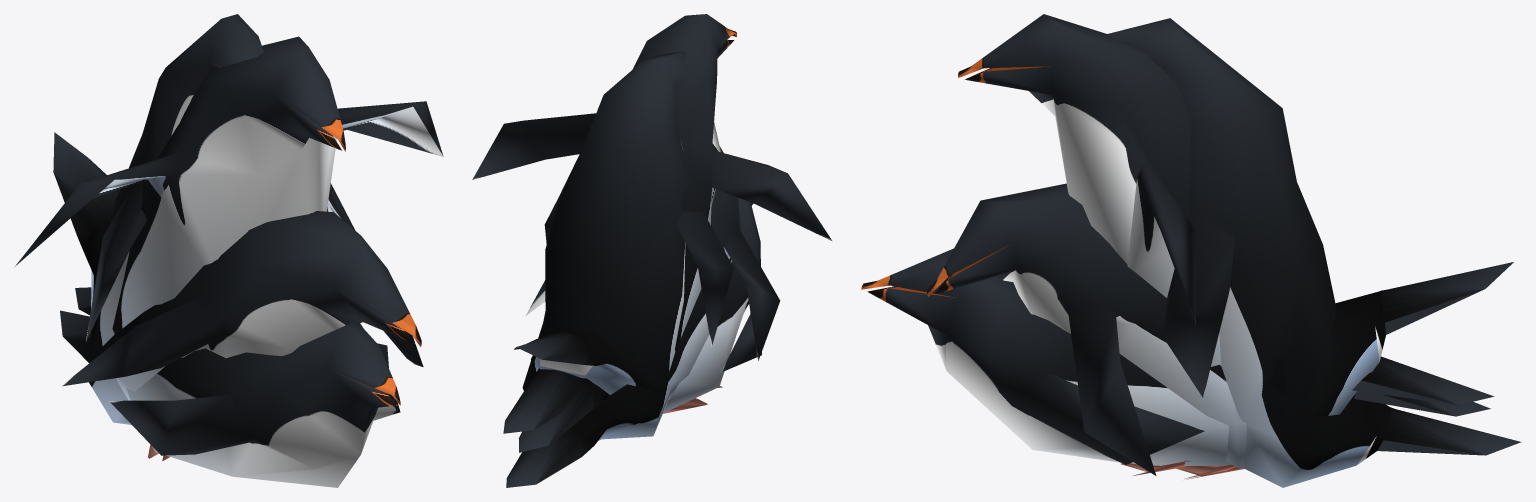
File: Adelie_DistantLODs.fbx
3 renders of one model, left to right at view 1: azimuth 30°, elevation 25°; view 2: azimuth 150°, elevation 25°; view 3: azimuth 270°, elevation 25°, orthographic. The views are drawn at different scales.
Visible parts, largest first — view 1: Adelie_LOD_Waddle, Adelie_LOD_Transition, Adelie_LOD_Belly, Adelie_LOD_Idle; view 2: Adelie_LOD_Idle, Adelie_LOD_Waddle, Adelie_LOD_Transition, Adelie_LOD_Belly; view 3: Adelie_LOD_Idle, Adelie_LOD_Transition, Adelie_LOD_Waddle, Adelie_LOD_Belly.
Boxes of the visible parts, x1,y1,x2,y2 form: Adelie_LOD_Waddle: (15,36,443,460); Adelie_LOD_Transition: (53,132,423,458); Adelie_LOD_Belly: (75,287,400,487); Adelie_LOD_Idle: (60,14,354,457); Adelie_LOD_Idle: (506,51,733,487); Adelie_LOD_Waddle: (472,14,832,433); Adelie_LOD_Transition: (514,146,780,410); Adelie_LOD_Belly: (518,197,761,452); Adelie_LOD_Idle: (1107,18,1521,487); Adelie_LOD_Transition: (927,183,1513,479); Adelie_LOD_Waddle: (958,14,1494,475); Adelie_LOD_Belly: (861,248,1490,466).
Size of the model in its own units: 0.7442 by 0.7129 by 0.9853.
